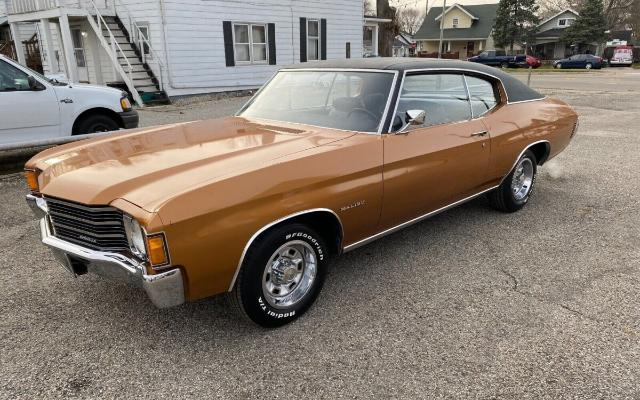chevelle-1972: (25, 59, 579, 327)
